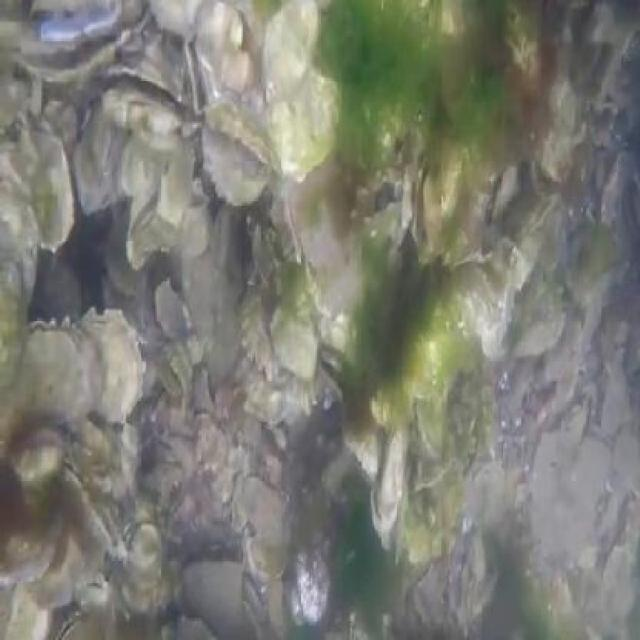Oyster-Closed: (9, 318, 97, 430), (77, 303, 144, 428), (370, 423, 409, 549), (55, 612, 88, 639)
Oyster-Indeterminate: (265, 65, 340, 184), (262, 0, 316, 103), (240, 281, 293, 372), (566, 223, 618, 301), (272, 278, 315, 372), (541, 77, 576, 182), (417, 373, 452, 452)
Oyster-Open: (12, 12, 136, 84), (58, 459, 131, 562), (204, 103, 280, 199), (414, 131, 466, 262), (353, 166, 403, 249), (185, 38, 215, 113), (487, 164, 520, 224)
